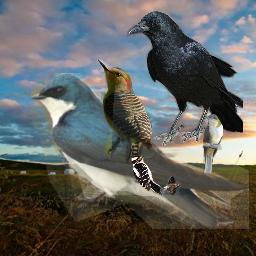Crow: (126, 10, 243, 146)
Cuckoo: (202, 114, 223, 173)
Swallow: (31, 73, 249, 229), (160, 176, 181, 195)
Woodpecker: (97, 59, 152, 167), (131, 155, 164, 196)
